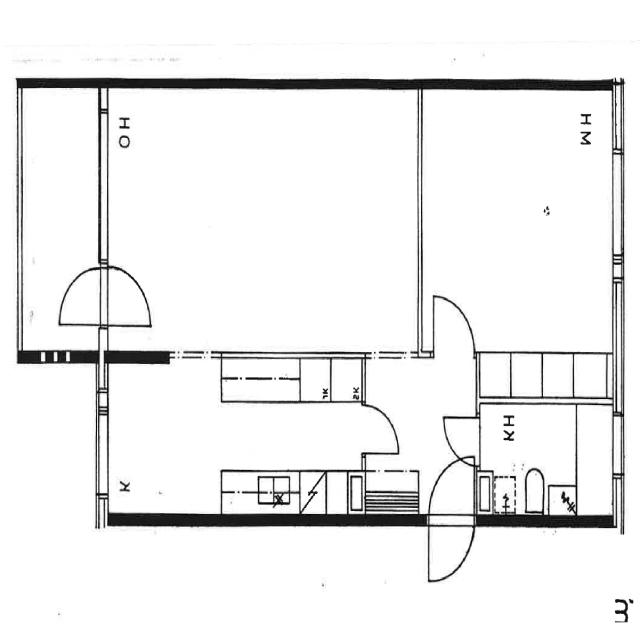door: (421, 452, 477, 586), (423, 283, 482, 385), (104, 258, 155, 331), (56, 262, 105, 328), (437, 411, 485, 471), (361, 398, 403, 461)
window: (605, 272, 631, 412), (604, 156, 630, 264), (608, 405, 629, 515), (92, 404, 112, 504), (606, 80, 628, 162), (164, 344, 214, 365), (92, 489, 112, 528)
zone: (117, 87, 412, 360), (419, 83, 622, 375), (100, 364, 367, 518), (16, 76, 104, 354), (472, 398, 615, 522)
